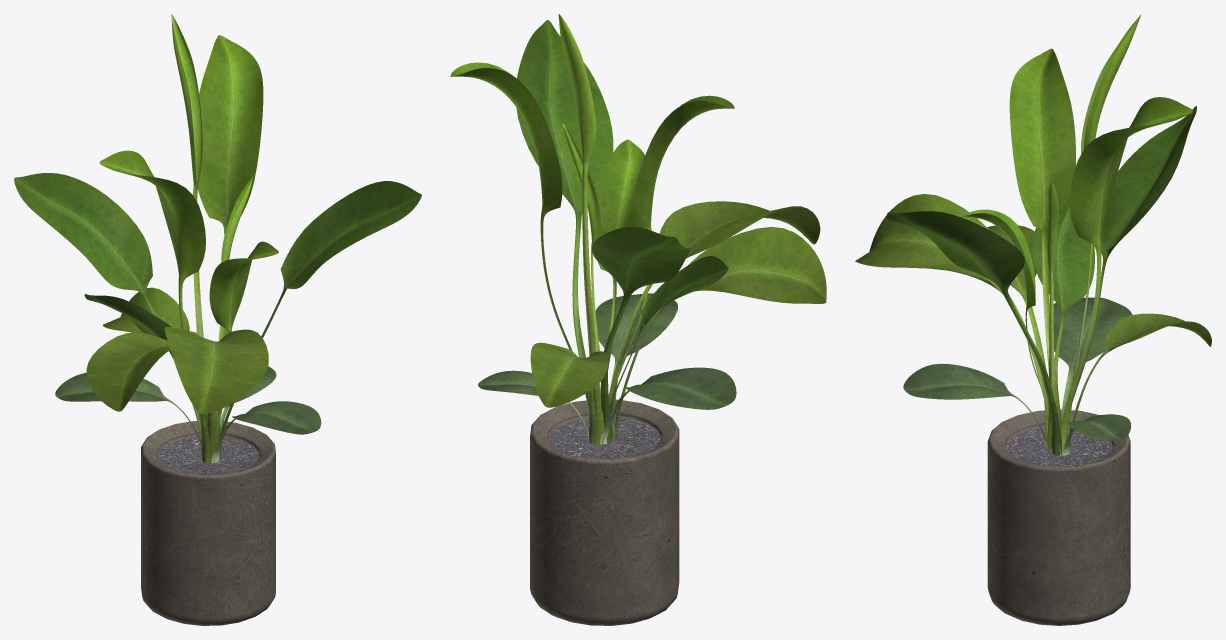
The model's file is rhyzomePlant_colliders.gltf.
3 views of the same model, side by side, from view 1: azimuth 30°, elevation 25°; view 2: azimuth 150°, elevation 25°; view 3: azimuth 270°, elevation 25° (orthographic). The views are drawn at different scales.
Parts seen in each view (by area): view 1: plant, concrete_pot; view 2: plant, concrete_pot; view 3: plant, concrete_pot.
Boxes of the visible parts, x1=… form: plant: x1=14, y1=14, x2=421, y2=463; concrete_pot: x1=141, y1=421, x2=275, y2=625; plant: x1=450, y1=14, x2=826, y2=444; concrete_pot: x1=530, y1=399, x2=679, y2=625; plant: x1=855, y1=15, x2=1211, y2=455; concrete_pot: x1=987, y1=409, x2=1130, y2=625.
Size of what is drawn, in the model's own units: 2.31 by 4.29 by 2.36.
2 materials, 2 textured.
